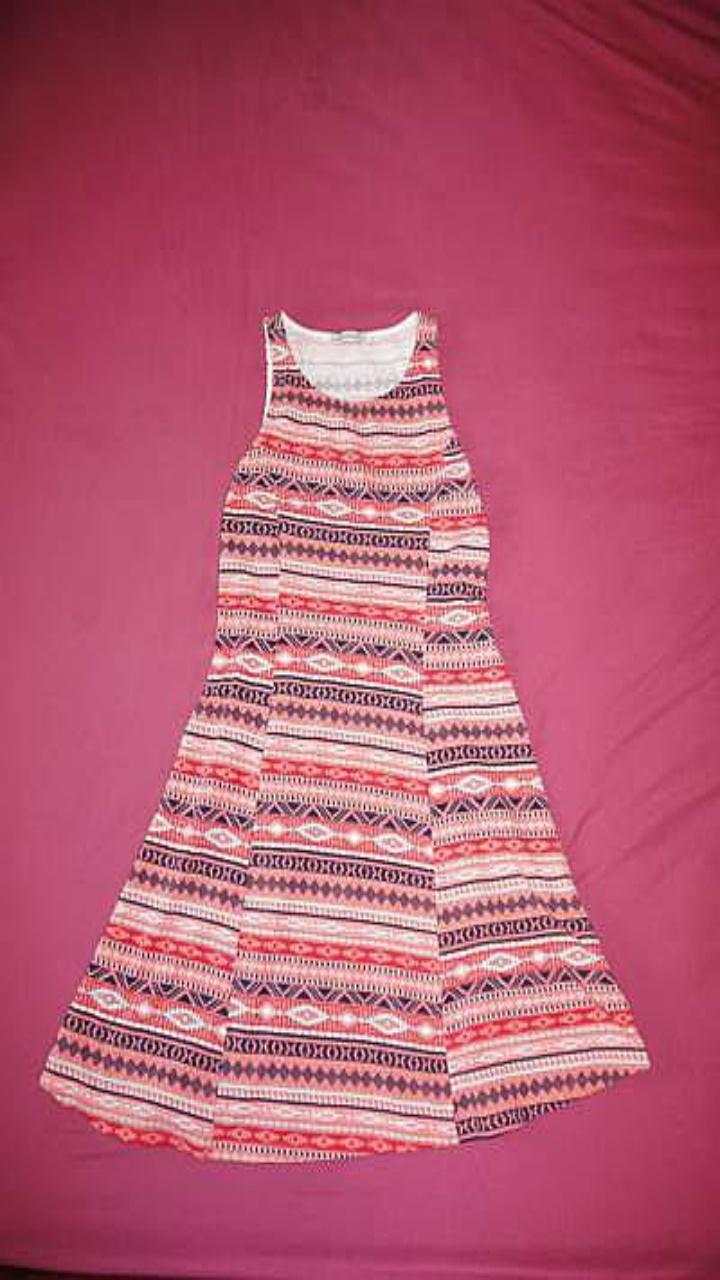Dresses: (39, 311, 649, 1160)
